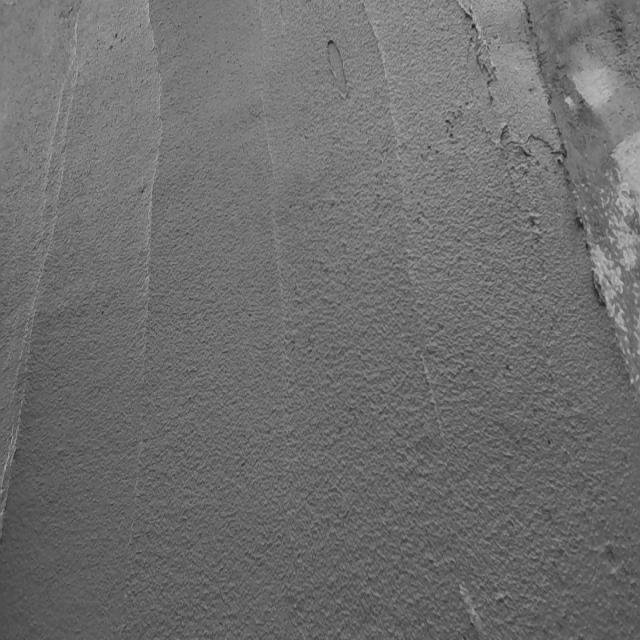trowels marks: (376, 13, 426, 314), (141, 8, 172, 441)
